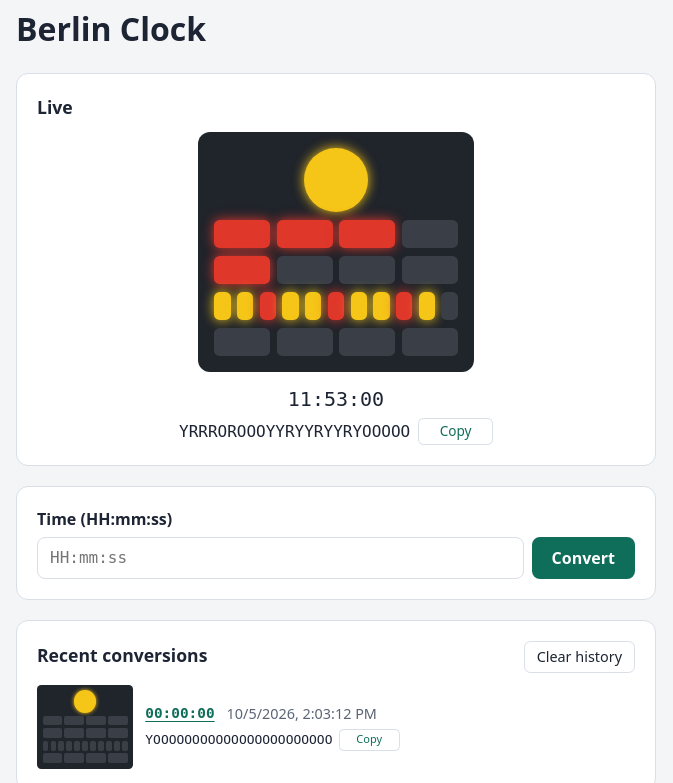
When the database is down › shows "History unavailable" when clearing fails, rather than an empty history
Expected: the link "00:00:00" is shown, [145,703,215,725]
Click the button "Clear history" at x=579, y=657, box [524,641,635,673]
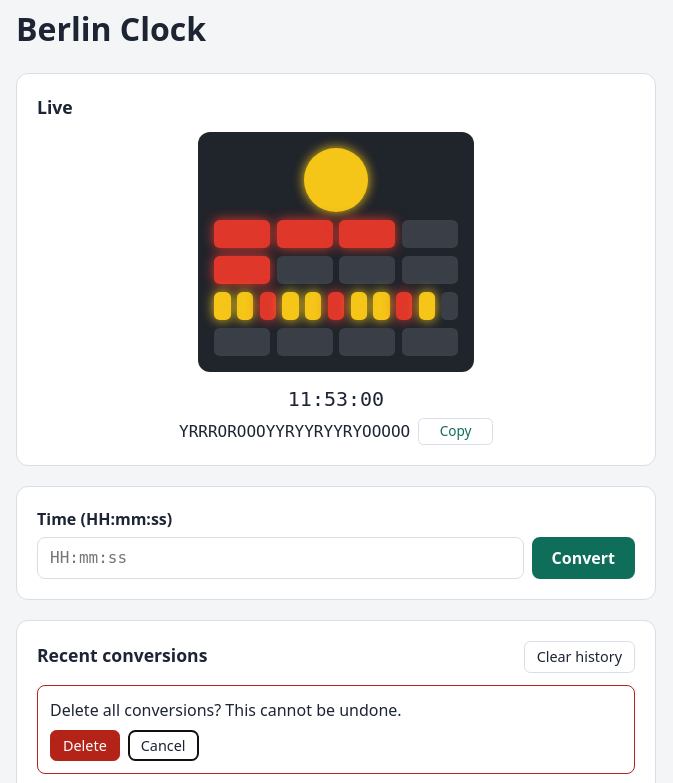
Click the button "Delete" at x=85, y=746, box [50,730,120,761]
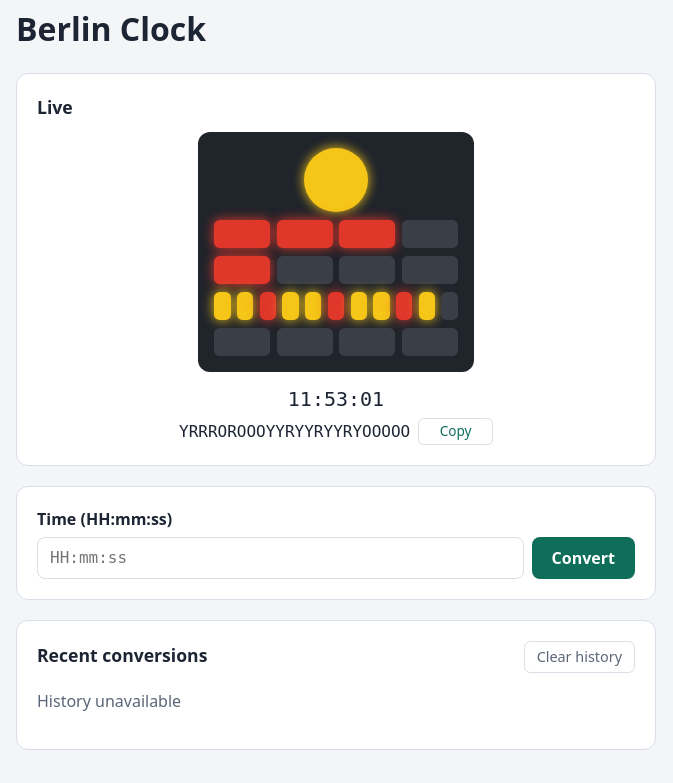
Expected: the text "History unavailable" is shown, [37,690,181,712]
